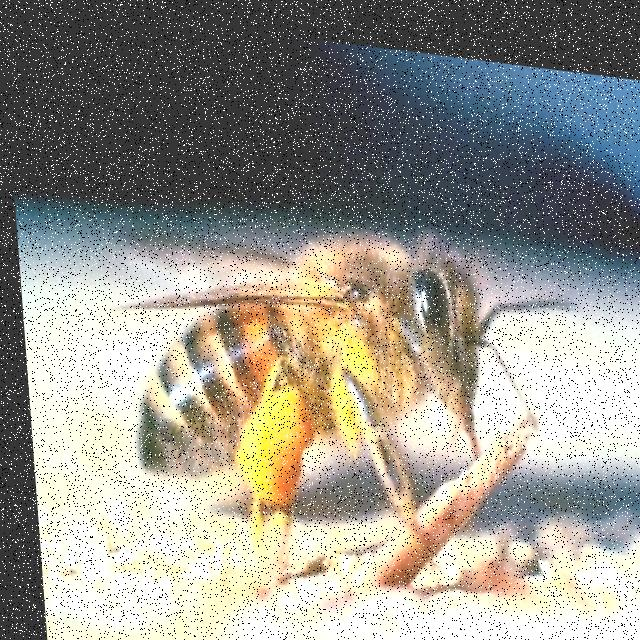Apis-mellifera-scutellata: (107, 159, 566, 572)
